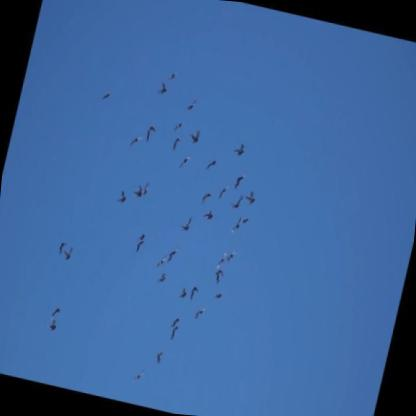bird: (213, 251, 230, 272), (165, 245, 180, 268), (232, 140, 249, 159), (187, 285, 202, 306), (155, 78, 171, 97), (187, 128, 203, 147), (229, 192, 245, 211), (143, 124, 157, 144), (233, 171, 246, 192), (132, 365, 146, 384), (180, 215, 194, 234), (55, 238, 69, 257), (244, 190, 259, 207), (130, 184, 145, 201), (140, 179, 152, 200), (213, 269, 227, 286), (117, 188, 130, 206), (187, 96, 199, 115), (232, 215, 244, 234), (129, 133, 143, 149), (205, 157, 218, 174), (179, 154, 192, 171), (155, 271, 168, 288), (172, 136, 184, 154), (63, 244, 75, 261), (170, 313, 182, 330), (202, 190, 214, 206), (194, 305, 206, 321), (219, 184, 230, 201), (178, 284, 189, 301), (154, 349, 165, 366), (174, 119, 186, 134), (203, 208, 215, 223), (50, 305, 62, 320), (47, 318, 59, 332), (101, 89, 112, 104), (227, 251, 238, 266), (157, 254, 168, 269), (167, 69, 179, 82), (171, 323, 180, 340), (136, 240, 145, 255), (242, 213, 251, 226), (138, 231, 148, 242), (215, 290, 225, 301)
